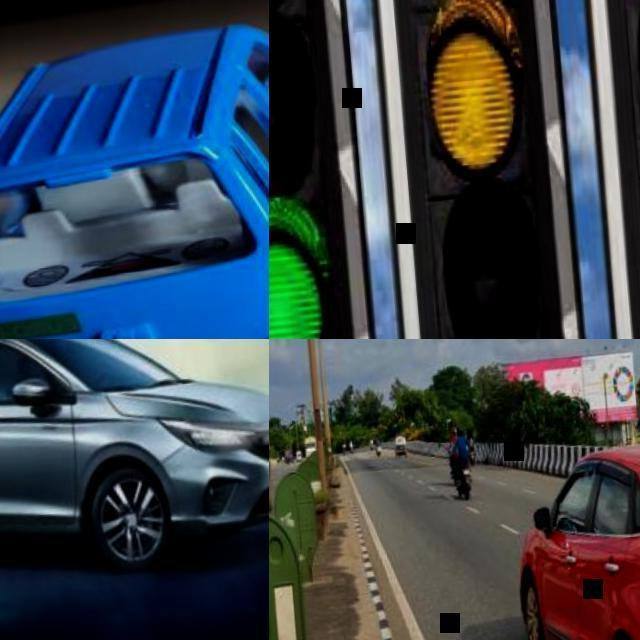car: (1, 334, 270, 570), (516, 444, 640, 639)
